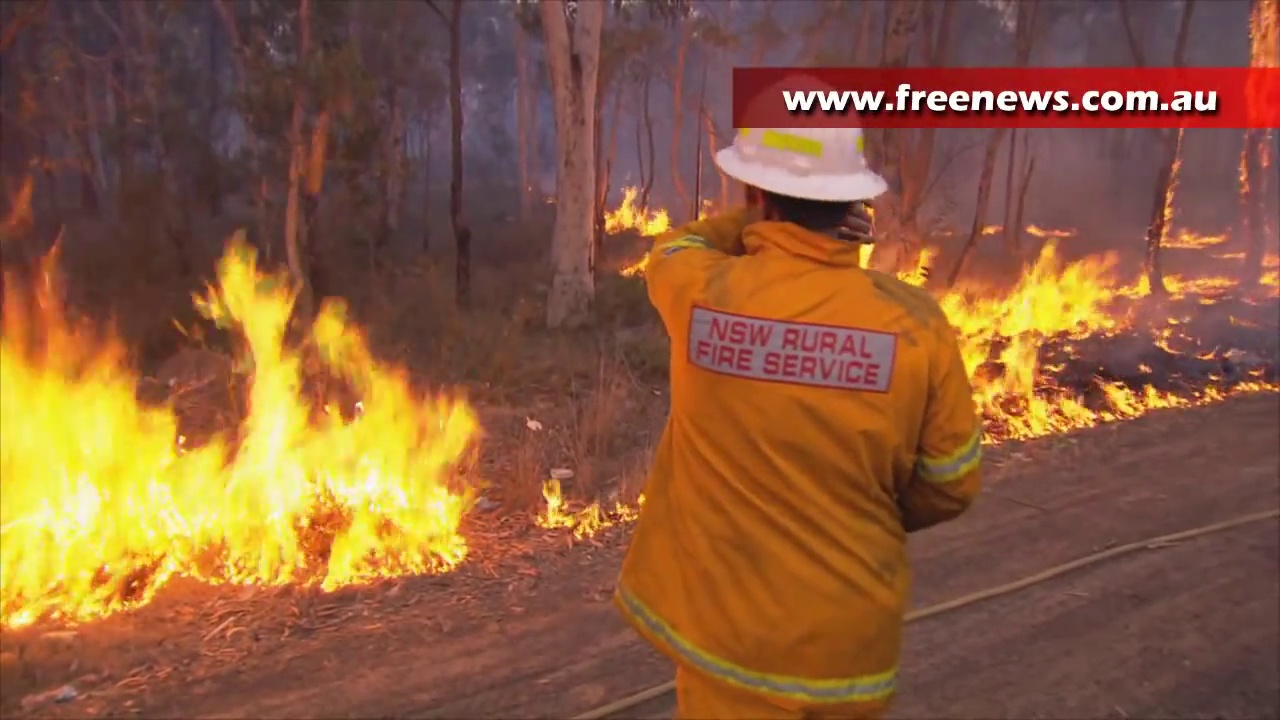fire: (1, 235, 484, 631), (943, 238, 1121, 337), (965, 343, 1094, 441), (1103, 377, 1276, 416), (535, 481, 600, 538), (608, 189, 668, 235), (1162, 270, 1231, 299), (1246, 6, 1278, 62), (1166, 226, 1222, 248), (617, 499, 636, 524)
